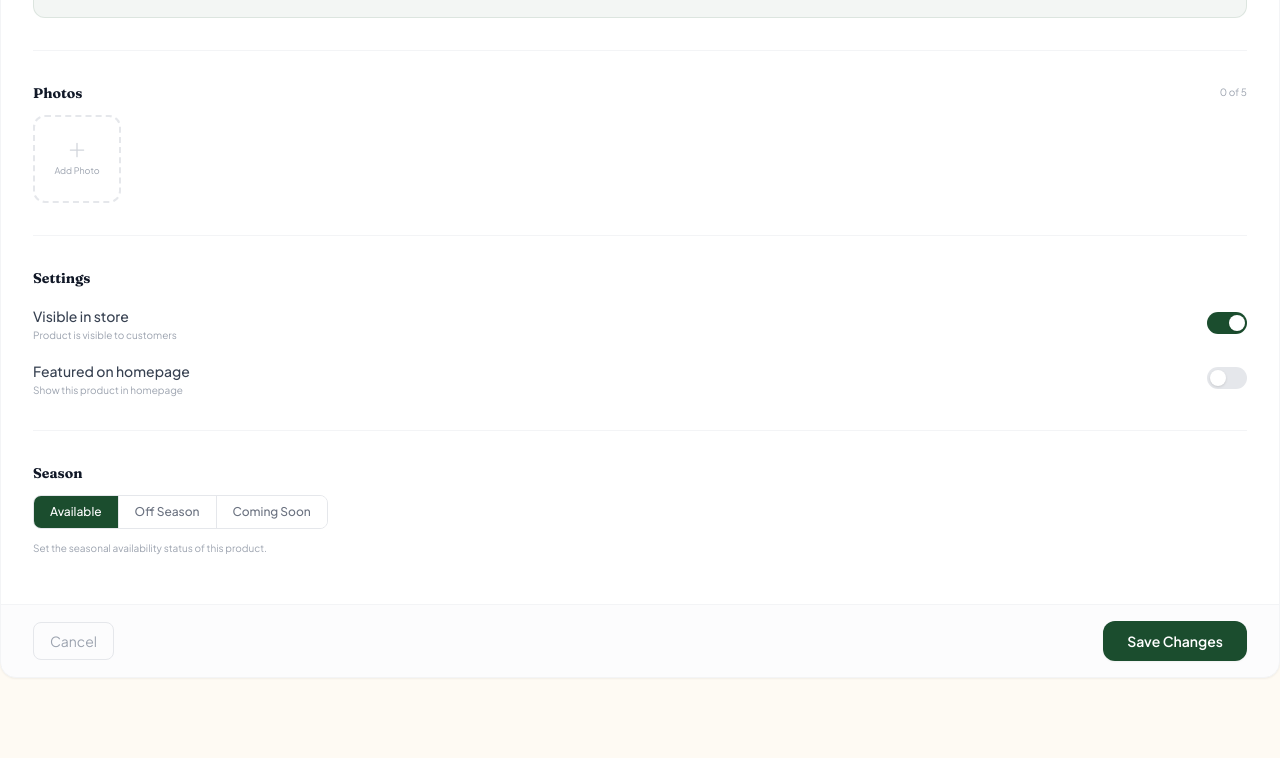
Test: admin management route views › renders a new product form and blocks saving without required product details
(page scrolled)
What coordinates should you click on to do the following:
click the button "Save Changes"
I would click on:
 (1175, 641)
Its box is [1103, 621, 1247, 661].
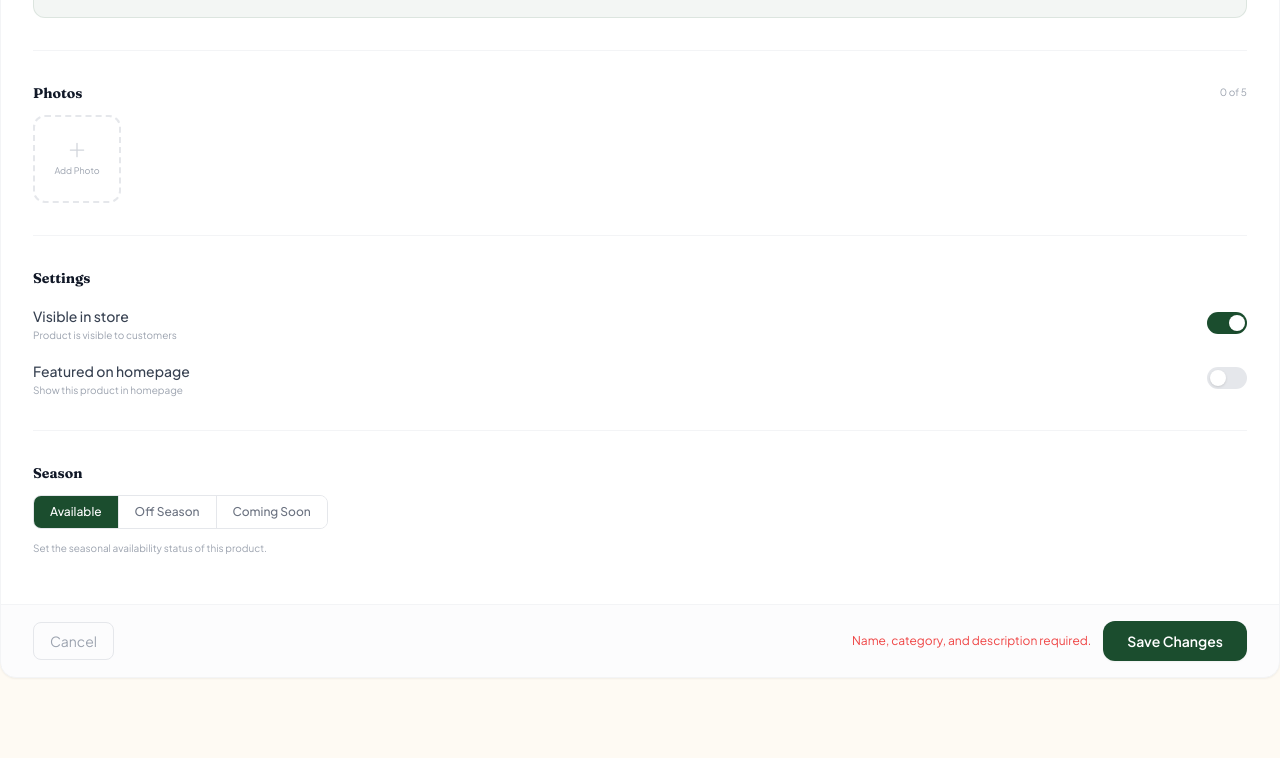
Result: the text "Name, category, and description required." is shown at [852, 633, 1091, 649]
